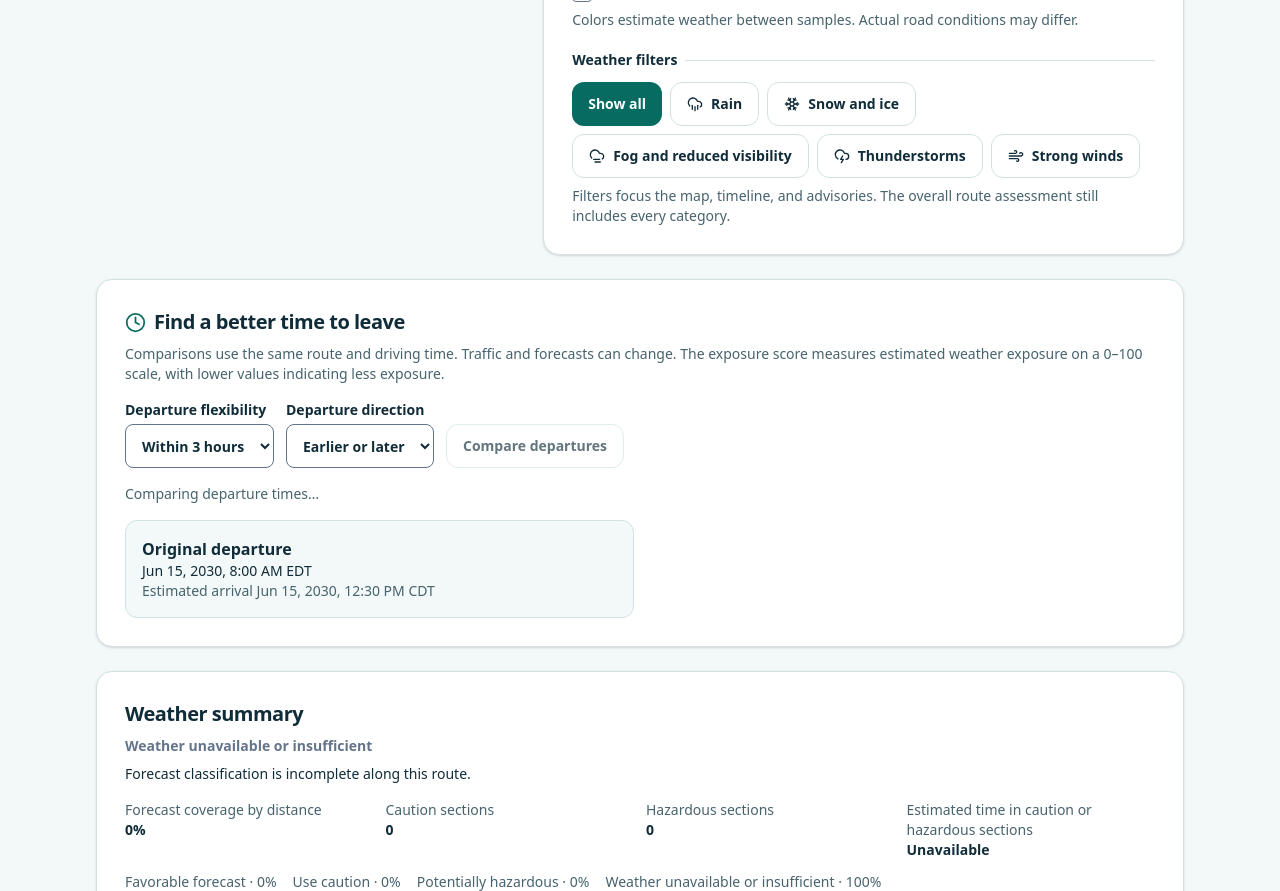
it: allows flexibility changes, handles no flexibility, and ignores a stale comparison
(page scrolled)
Expected: the text "Comparing departure times…" is shown, [125,484,319,503]
Select "No flexibility" in the dropdown labelled "Departure flexibility" at (200, 446), box [125,424,274,468]
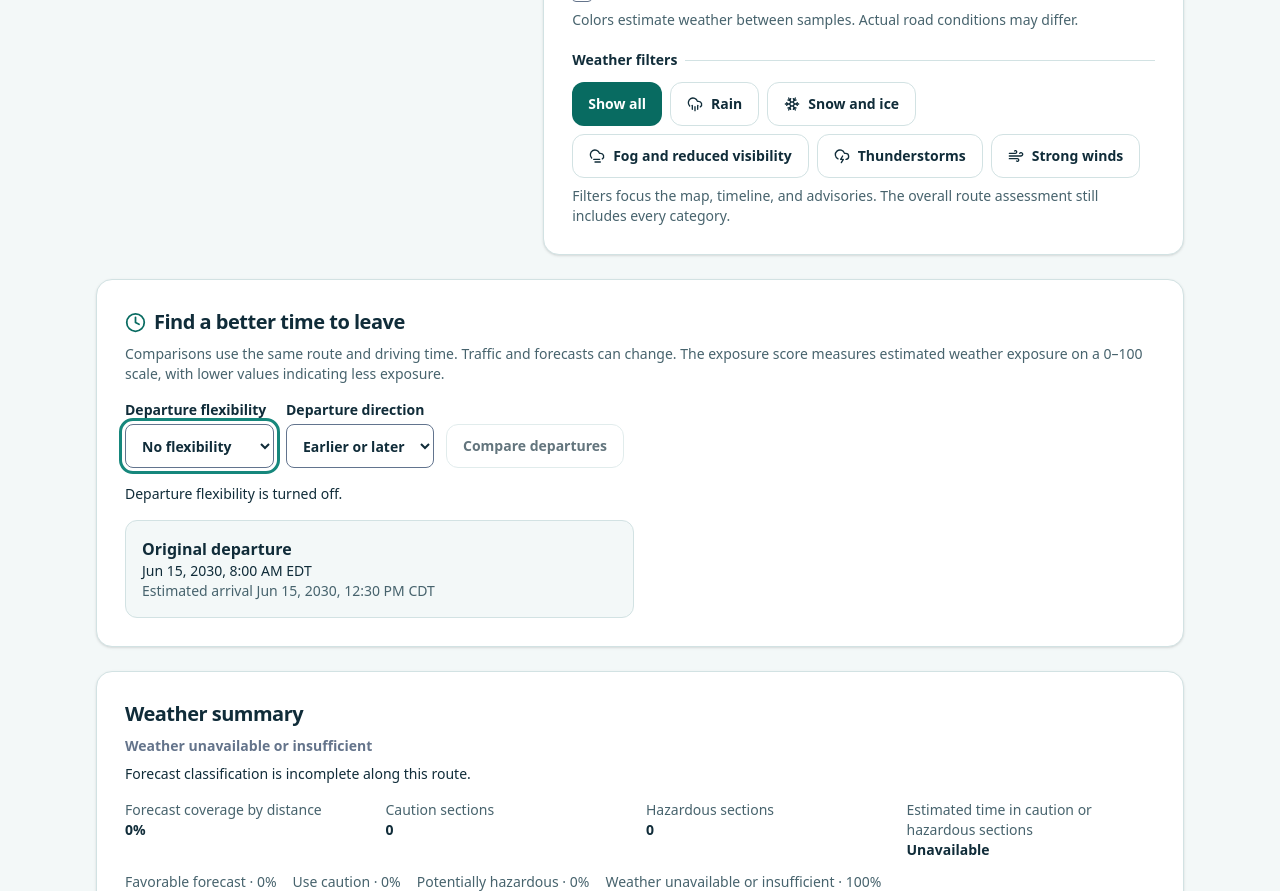
Expected: the button "Compare departures" is disabled, [446,424,624,468]
Result: the text "Departure flexibility is turned off." is shown at [125,484,342,503]
Select "Within 1 hour" in the dropdown labelled "Departure flexibility" at (200, 446), box [125,424,274,468]
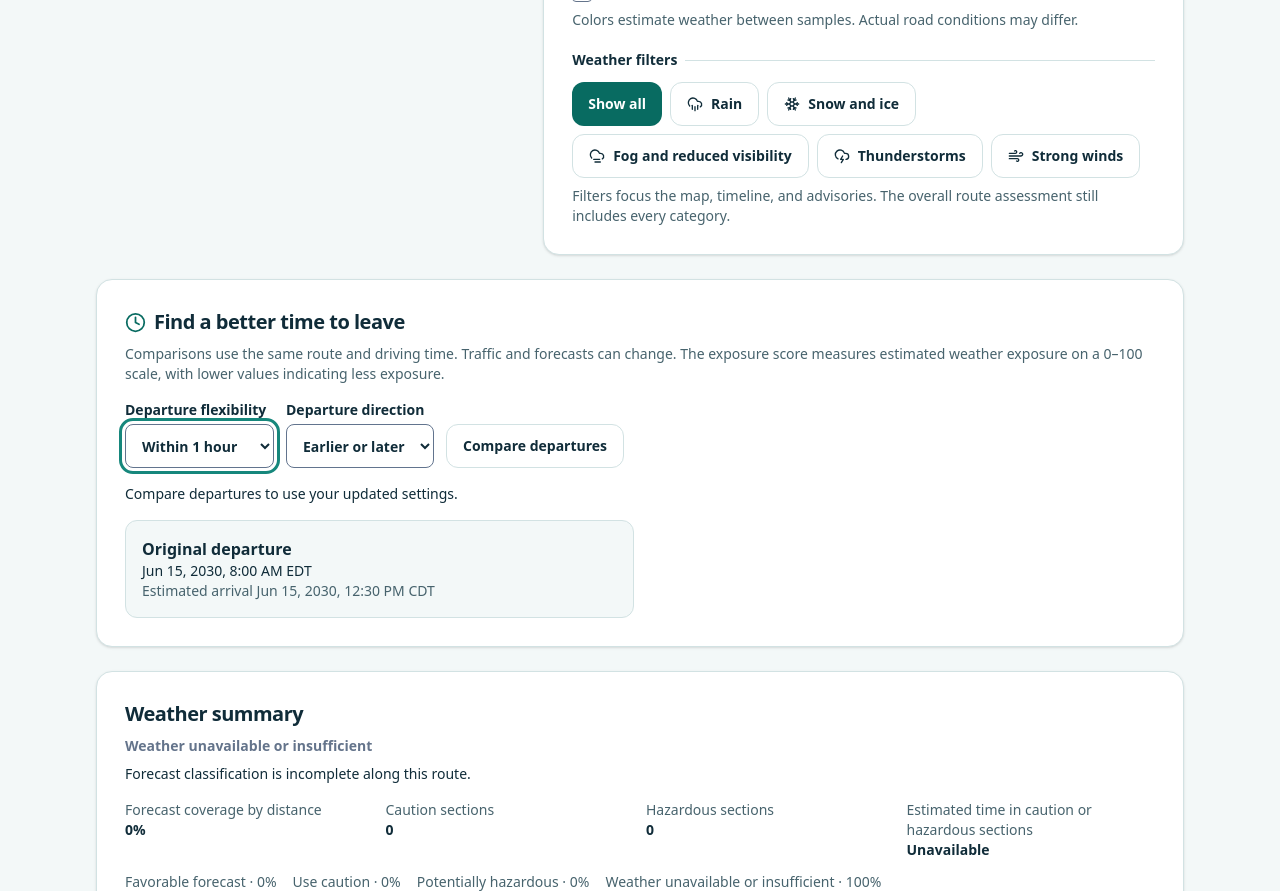
Select "Later only" in the dropdown labelled "Departure direction" at (360, 446), box [286,424,434,468]
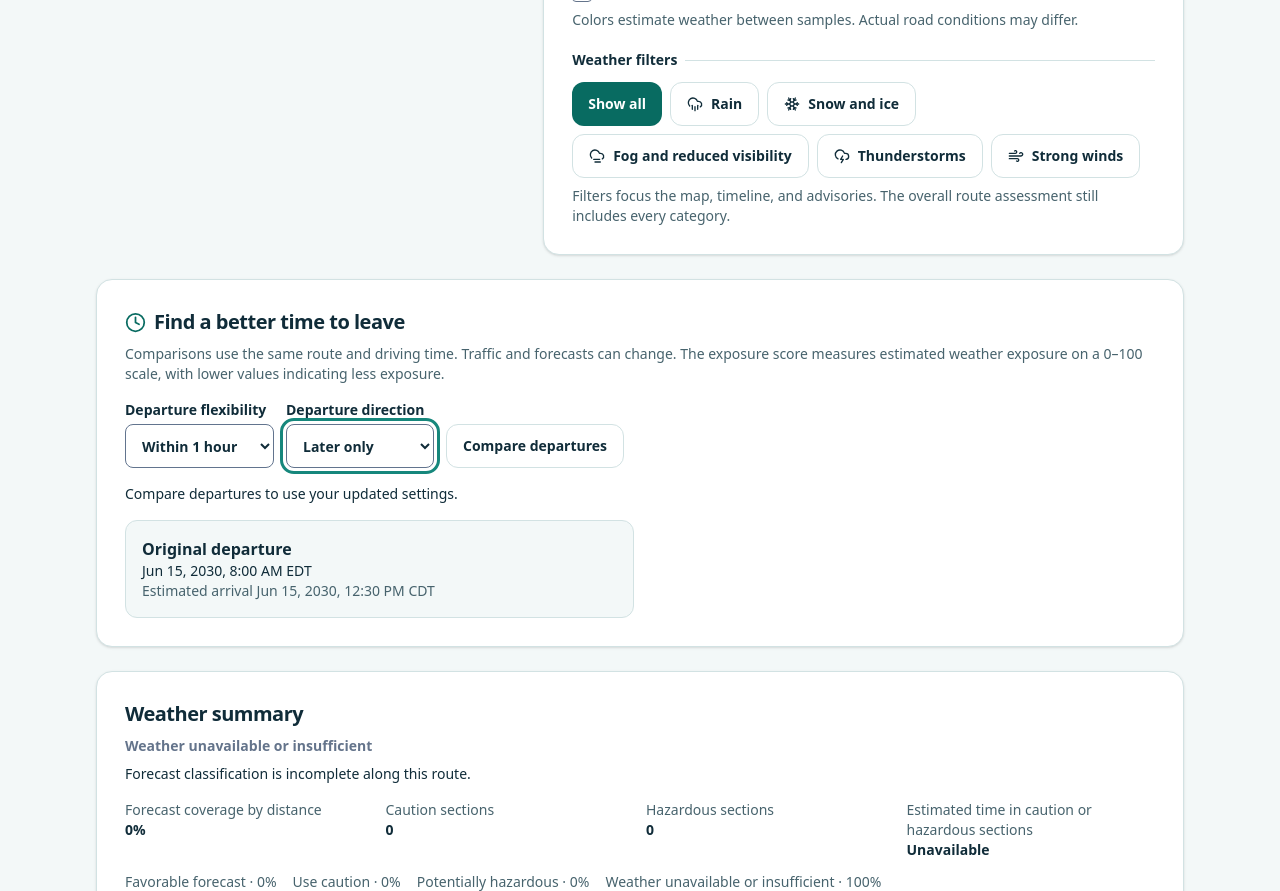
Click the button "Compare departures" at (535, 446), box [446,424,624,468]
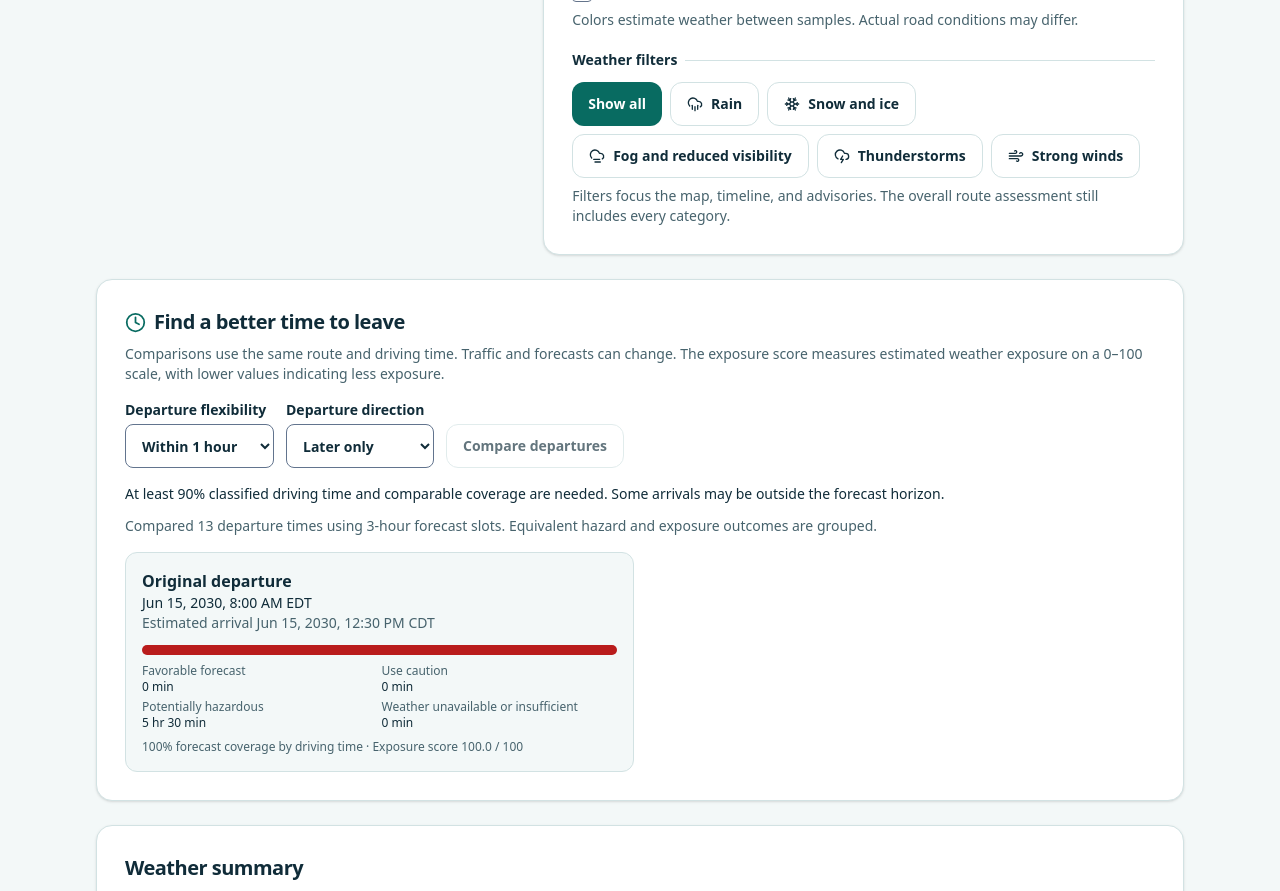
Result: the text "At least 90% classified driving time" is shown at [125,484,944,503]
